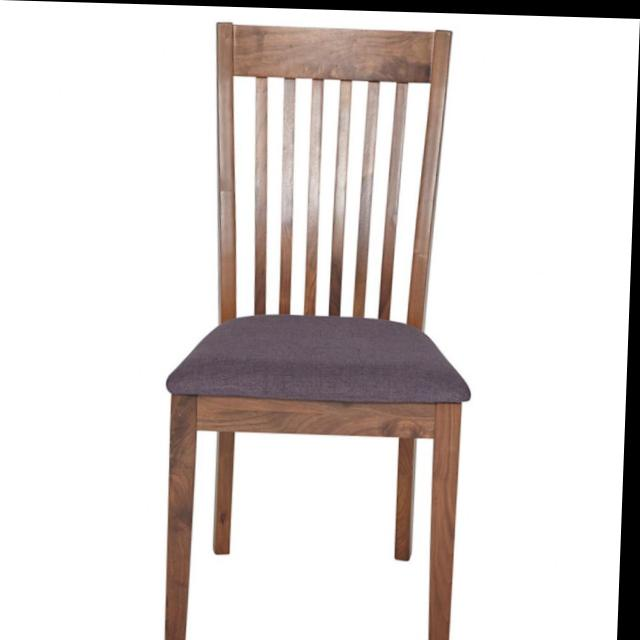Chair: (159, 18, 485, 640)
